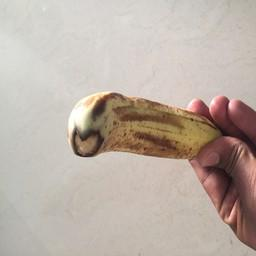Bad_banana: (66, 86, 218, 171)
